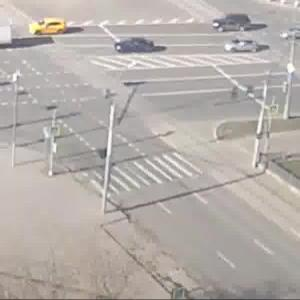car: (215, 15, 268, 38), (110, 36, 162, 57), (24, 19, 71, 38), (227, 38, 263, 55), (282, 30, 300, 48)
